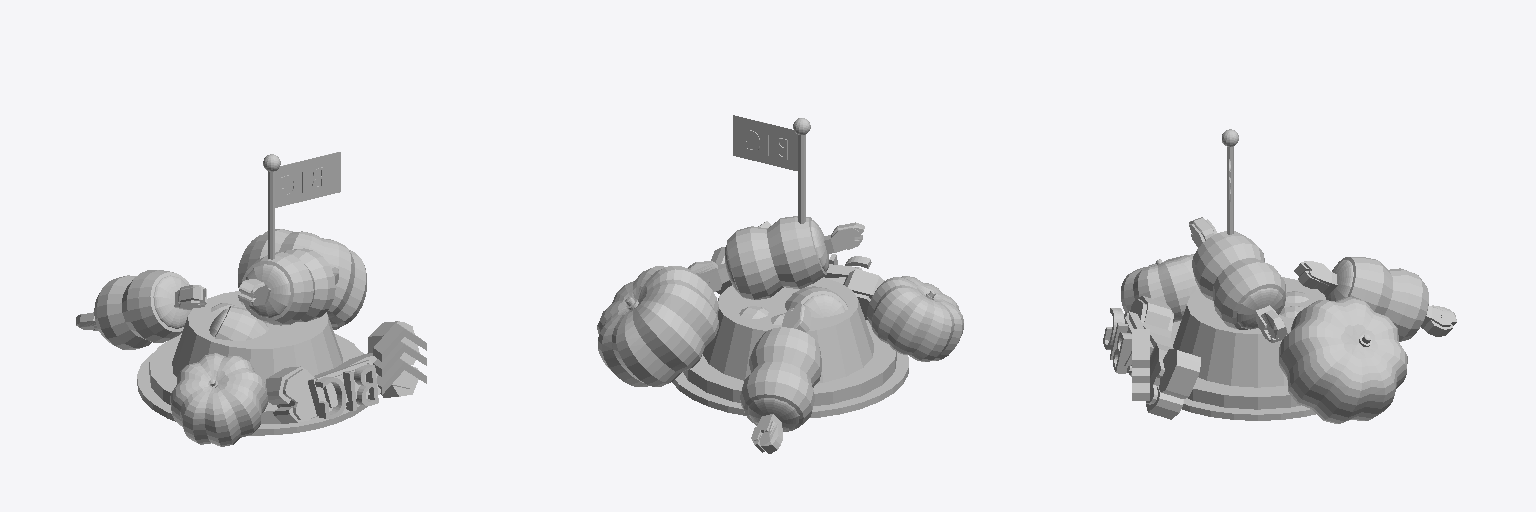
Rendered from item_big2.obj.
The picture shows the model from 3 angles: view 1: azimuth 30°, elevation 25°; view 2: azimuth 150°, elevation 25°; view 3: azimuth 270°, elevation 25°; orthographic projection.
Visible parts, largest first — view 1: group16 pCylinder2, group16 group15 group7 pumpkin:pSphere1, group16 group15 pCylinder1 group13, group16 group15 group8 pSphere1, group16 group15 group11 big_up:pCube1, group16 group15 meet_and_bone:pCylinder1 group12, group16 group15 group14 flag:pCube1, group16 group15 group11 big_up:typeMesh2, pCylinder1 group16, group16 group15 group12 meet_and_bone:pSphere1, group16 group15 group13 pSphere1, group16 group15 pCylinder1 group4 (+7 smaller); view 2: group16 pCylinder2, group16 group15 group8 pSphere1, group16 group15 group7 pumpkin:pSphere1, group16 group15 meet_and_bone:pCylinder1 group12, group16 group15 pCylinder1 group13, pCylinder1 group16, group16 group15 group14 flag:pCube1, group16 group15 group12 meet_and_bone:bone:pCube1, group16 group15 group13 pCube1, group16 group15 group11 big_up:pCube1, group16 group15 group13 pSphere2, group16 group15 flag:pCylinder1 group14 (+2 smaller); view 3: group16 group15 group8 pSphere1, group16 pCylinder2, group16 group15 meet_and_bone:pCylinder1 group12, group16 group15 group11 big_up:pCube1, group16 group15 pCylinder1 group13, group16 group15 group7 pumpkin:pSphere1, group16 group15 group13 pCube1, pCylinder1 group16, group16 group15 group12 meet_and_bone:bone:pCube1, group16 group15 group11 big_up:typeMesh2, group16 group15 group12 meet_and_bone:pSphere2, group16 big_up:pCube5 group2 group15 (+2 smaller).
Part boxes in pixels (left/top/right/bottom): group16 pCylinder2: left=149, top=291, right=362, bottom=423; group16 group15 group7 pumpkin:pSphere1: left=170, top=353, right=267, bottom=446; group16 group15 pCylinder1 group13: left=94, top=270, right=189, bottom=349; group16 group15 group8 pSphere1: left=238, top=229, right=366, bottom=329; group16 group15 group11 big_up:pCube1: left=266, top=321, right=419, bottom=423; group16 group15 meet_and_bone:pCylinder1 group12: left=242, top=248, right=335, bottom=325; group16 group15 group14 flag:pCube1: left=275, top=152, right=340, bottom=207; group16 group15 group11 big_up:typeMesh2: left=316, top=364, right=378, bottom=418; pCylinder1 group16: left=137, top=352, right=367, bottom=435; group16 group15 group12 meet_and_bone:pSphere1: left=246, top=264, right=290, bottom=317; group16 group15 group13 pSphere1: left=153, top=275, right=191, bottom=328; group16 group15 pCylinder1 group4: left=215, top=306, right=268, bottom=340; group16 pCylinder2: left=683, top=277, right=896, bottom=405; group16 group15 group8 pSphere1: left=597, top=266, right=718, bottom=386; group16 group15 group7 pumpkin:pSphere1: left=867, top=276, right=963, bottom=361; group16 group15 meet_and_bone:pCylinder1 group12: left=727, top=216, right=826, bottom=299; group16 group15 pCylinder1 group13: left=740, top=327, right=821, bottom=431; pCylinder1 group16: left=672, top=352, right=908, bottom=417; group16 group15 group14 flag:pCube1: left=733, top=115, right=797, bottom=170; group16 group15 group12 meet_and_bone:bone:pCube1: left=688, top=222, right=864, bottom=291; group16 group15 group13 pCube1: left=751, top=302, right=811, bottom=453; group16 group15 group11 big_up:pCube1: left=711, top=247, right=884, bottom=319; group16 group15 group13 pSphere2: left=748, top=398, right=799, bottom=430; group16 group15 flag:pCylinder1 group14: left=798, top=135, right=805, bottom=223; group16 group15 group8 pSphere1: left=1279, top=297, right=1407, bottom=423; group16 pCylinder2: left=1171, top=277, right=1325, bottom=409; group16 group15 meet_and_bone:pCylinder1 group12: left=1192, top=231, right=1285, bottom=329; group16 group15 group11 big_up:pCube1: left=1130, top=296, right=1200, bottom=419; group16 group15 pCylinder1 group13: left=1338, top=257, right=1428, bottom=341; group16 group15 group7 pumpkin:pSphere1: left=1121, top=254, right=1198, bottom=322; group16 group15 group13 pCube1: left=1294, top=261, right=1456, bottom=336; pCylinder1 group16: left=1182, top=398, right=1315, bottom=420; group16 group15 group12 meet_and_bone:bone:pCube1: left=1189, top=217, right=1287, bottom=342; group16 group15 group11 big_up:typeMesh2: left=1103, top=308, right=1131, bottom=373; group16 group15 group12 meet_and_bone:pSphere2: left=1237, top=288, right=1282, bottom=329; group16 big_up:pCube5 group2 group15: left=1132, top=329, right=1149, bottom=367.
Bounding box in the file's own units: 17.79 × 15.46 × 20.44.